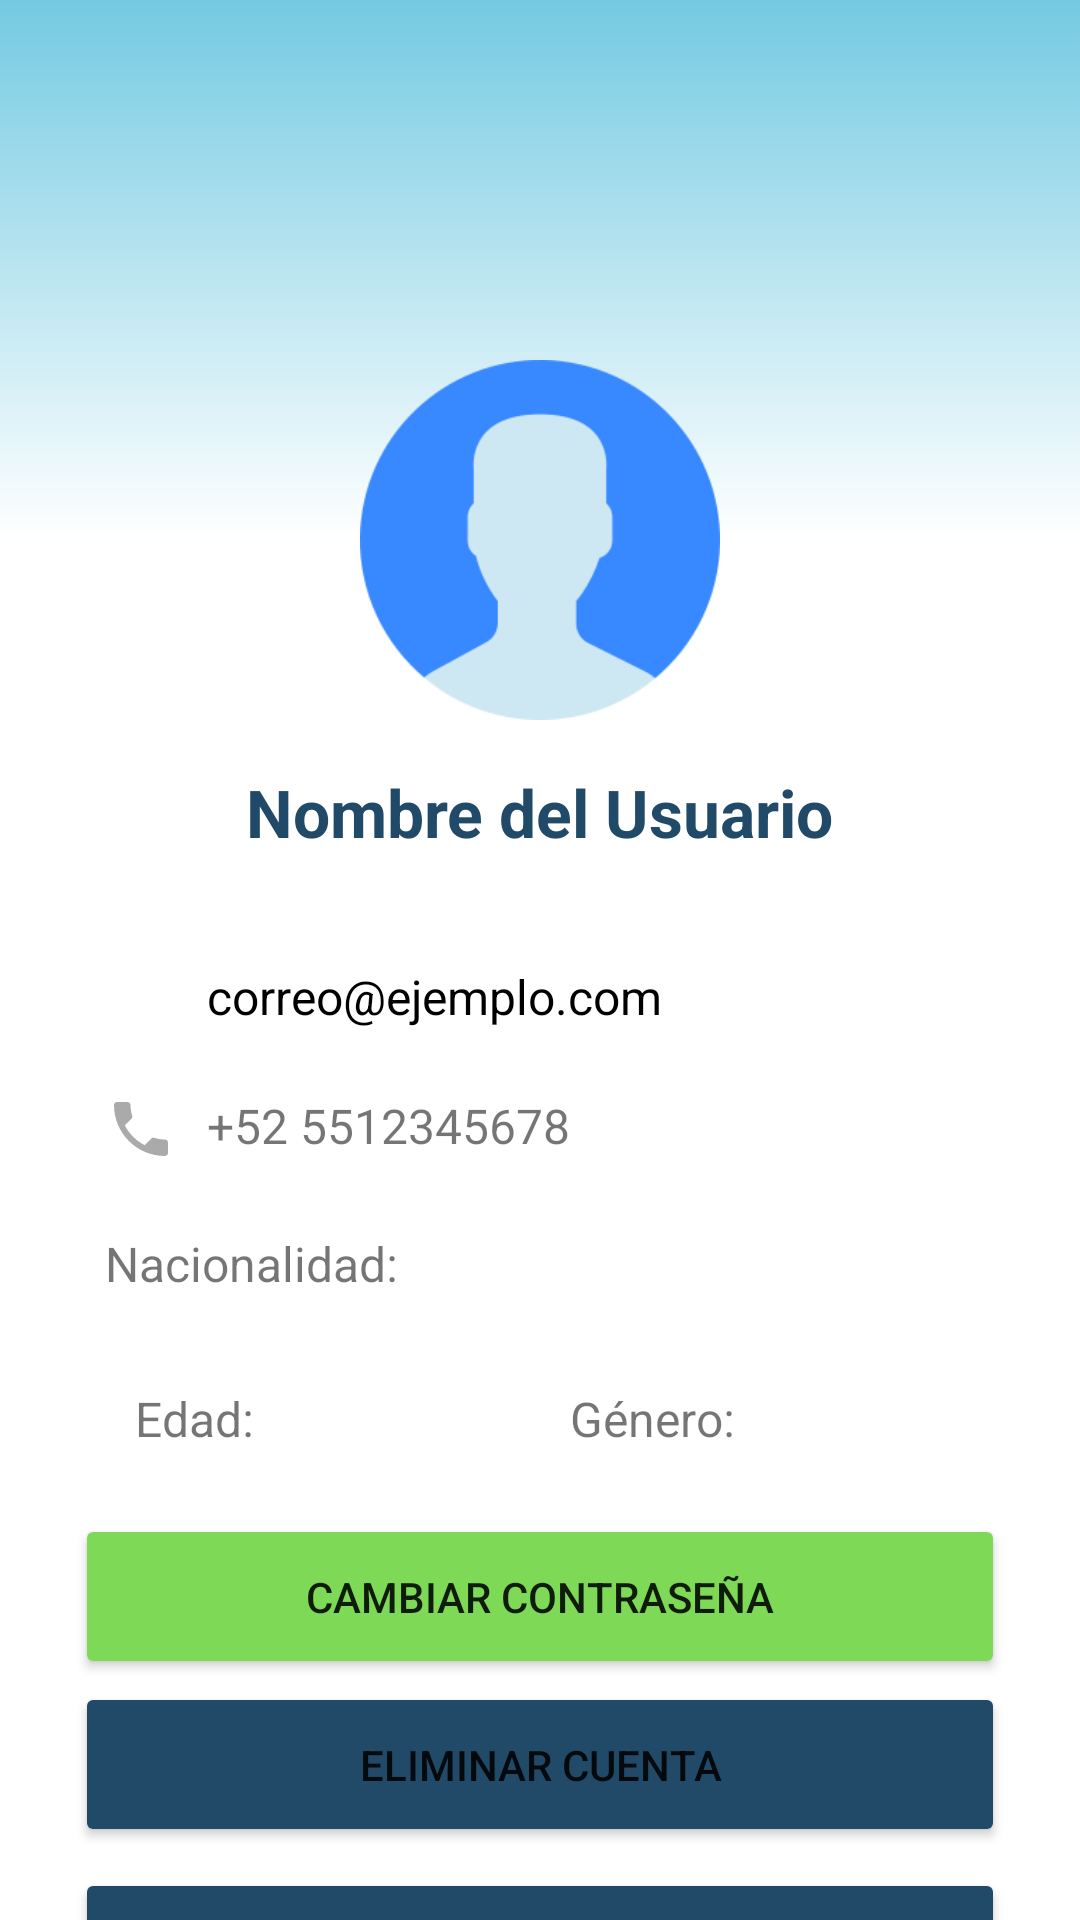

Where to tap for icons on this 1080×1920 app screen, as [x,y]:
photo original user: [540,540]
